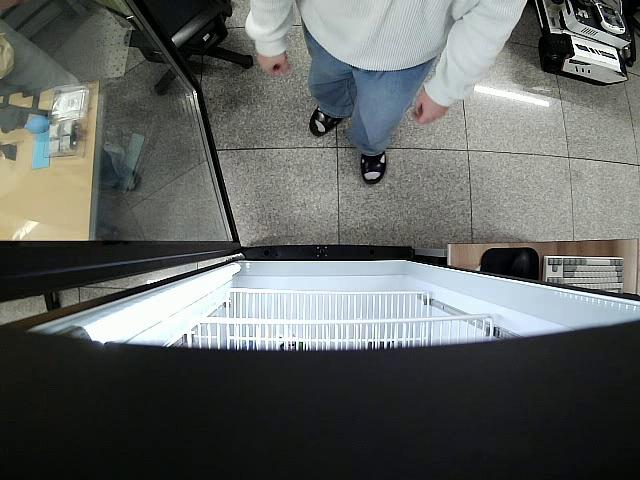00_hand: (411, 87, 448, 129), (257, 51, 291, 75)
